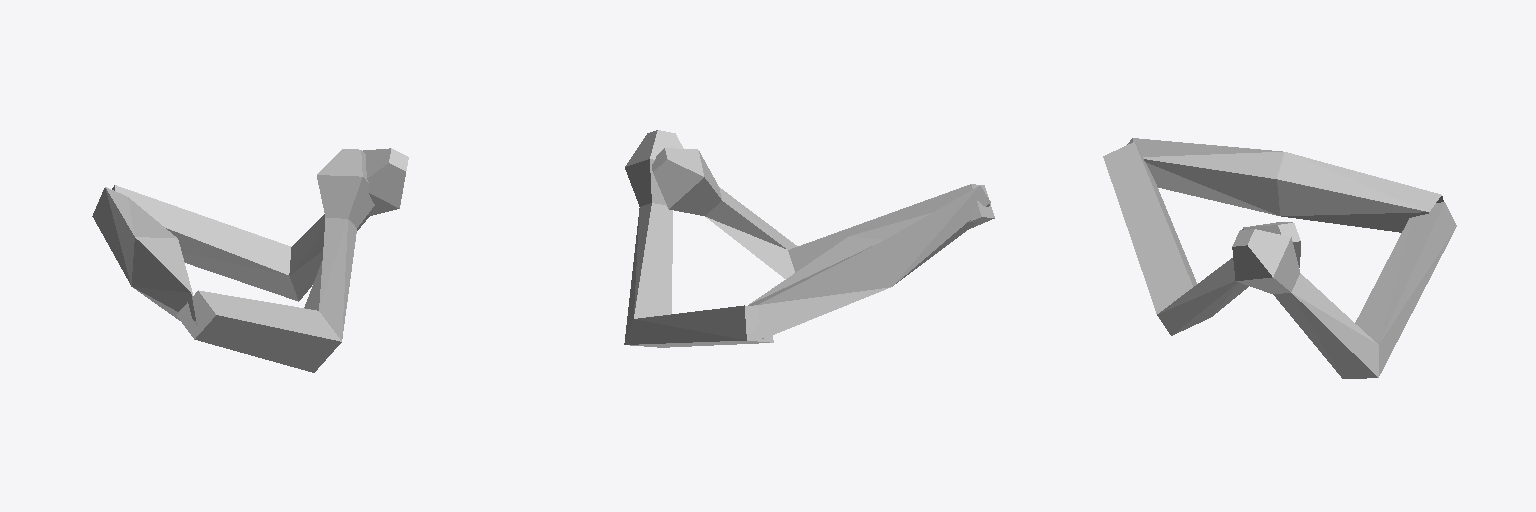
Rendered from handsBlock_000010.obj.
The picture shows the model from 3 angles: view 1: azimuth 30°, elevation 25°; view 2: azimuth 150°, elevation 25°; view 3: azimuth 270°, elevation 25°; orthographic projection.
Parts seen in each view (by area): view 1: Cube; view 2: Cube; view 3: Cube.
Boxes of the visible parts, box(x1,y1,x2,y2) form: Cube: box(92, 148, 408, 372); Cube: box(624, 130, 994, 347); Cube: box(1103, 138, 1456, 378).
Bounding box in the file's own units: 4.93 × 2.79 × 5.15.